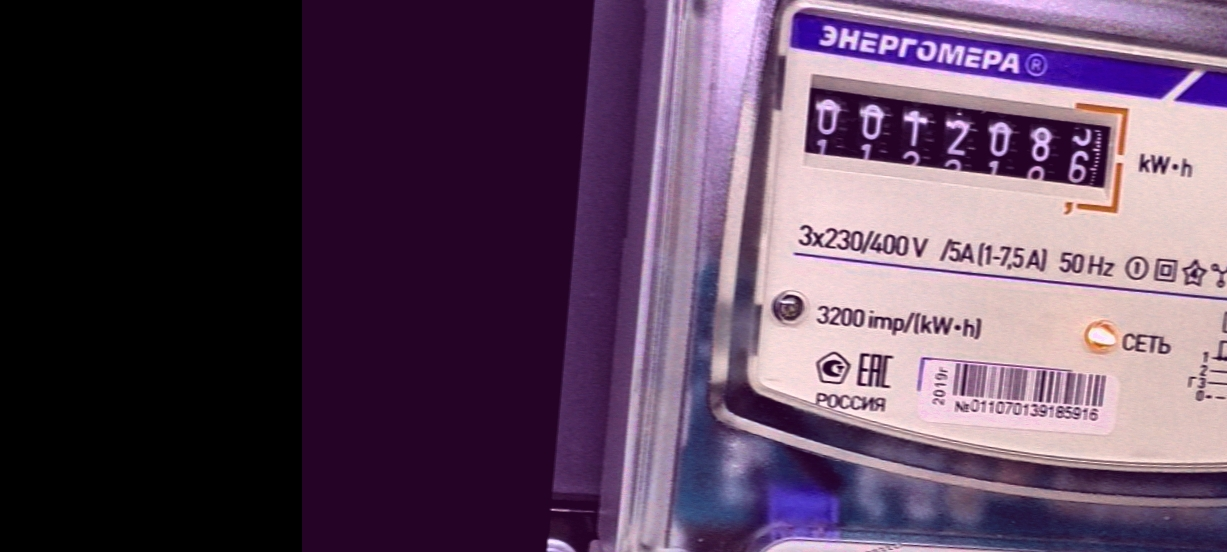0: (855, 100, 887, 144), (812, 94, 840, 138), (985, 119, 1011, 160)
1: (900, 107, 925, 149)
2: (942, 117, 970, 158)
6: (1062, 148, 1089, 185)
8: (1027, 123, 1052, 165)
screen: (790, 61, 1140, 228)
